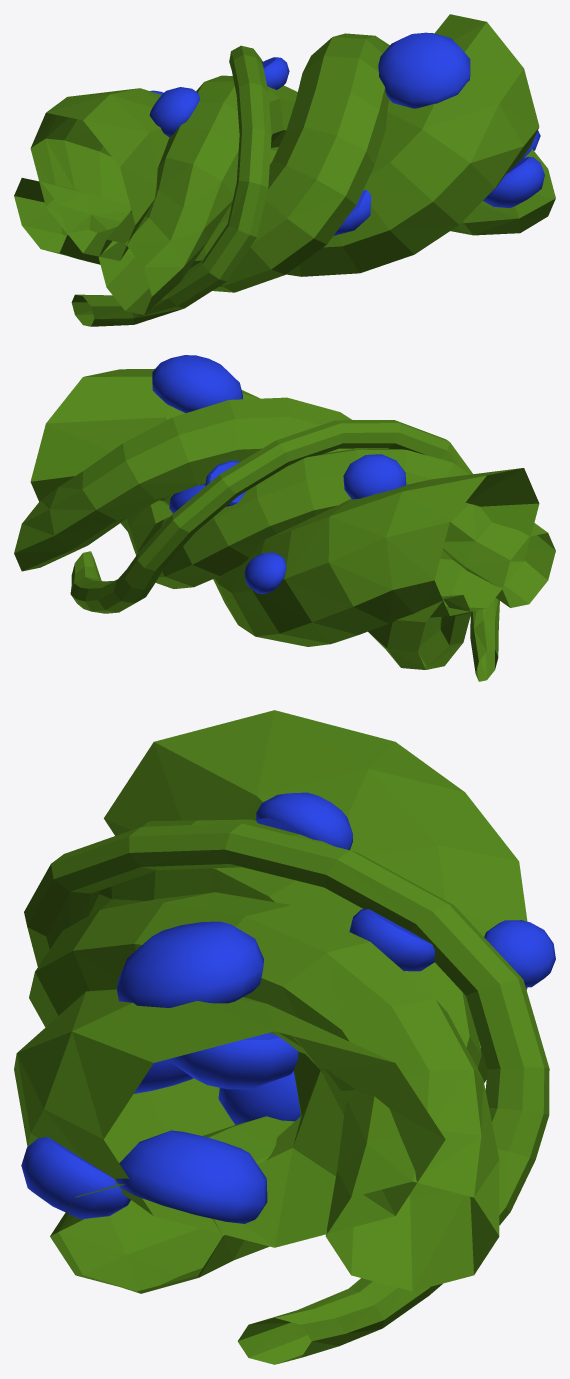
The picture shows the model from 3 angles, top to bottom: view 1: azimuth 30°, elevation 25°; view 2: azimuth 150°, elevation 25°; view 3: azimuth 270°, elevation 25°; orthographic projection. The views are drawn at different scales.
Parts seen in each view (by area): view 1: root_water_basic; view 2: root_water_basic; view 3: root_water_basic.
Part boxes in pixels (<box>): root_water_basic: <box>14,14,555,326</box>; root_water_basic: <box>14,355,555,681</box>; root_water_basic: <box>14,710,555,1364</box>.
Bounding box in the file's own units: 106 × 53.3 × 71.31.
